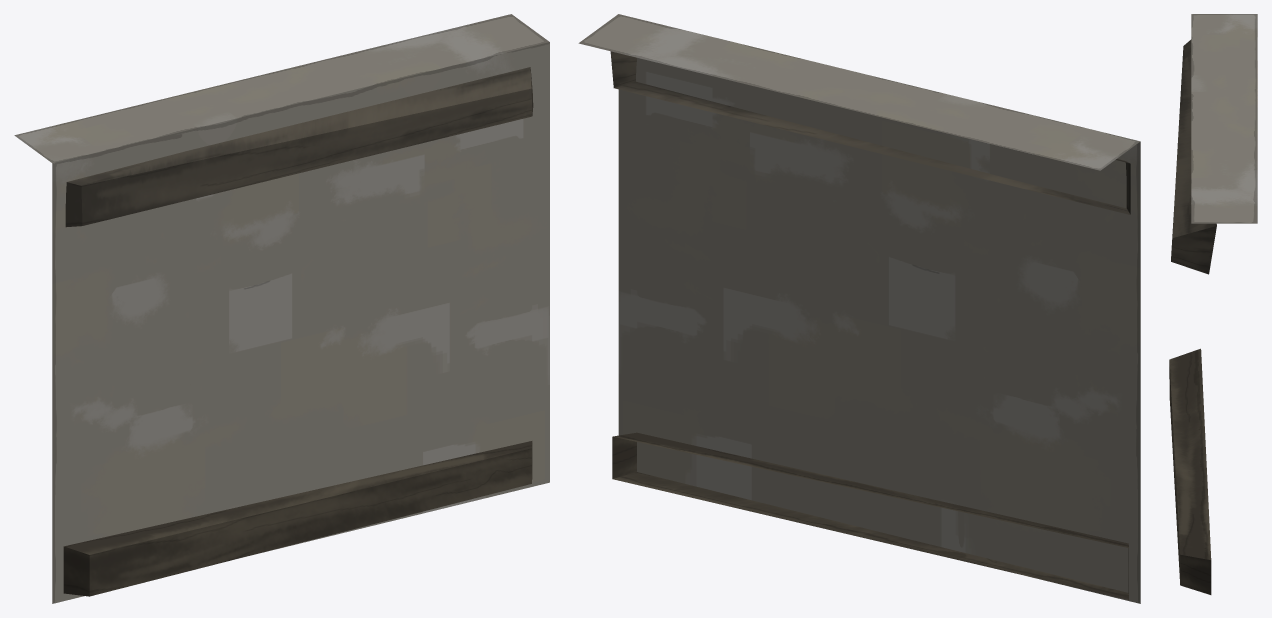
Rendered from childRoom_wall_outer04.fbx.
3 renders of one model, left to right at view 1: azimuth 30°, elevation 25°; view 2: azimuth 150°, elevation 25°; view 3: azimuth 270°, elevation 25°, orthographic. The views are drawn at different scales.
Visible parts, largest first — view 1: cons_wall_outer04; view 2: cons_wall_outer04; view 3: cons_wall_outer04.
Boxes of the visible parts, bbox=[...] form: cons_wall_outer04: bbox=[14, 14, 549, 603]; cons_wall_outer04: bbox=[578, 14, 1140, 603]; cons_wall_outer04: bbox=[1169, 14, 1257, 594].
Bounding box in the file's own units: 300 × 254 × 53.31.
